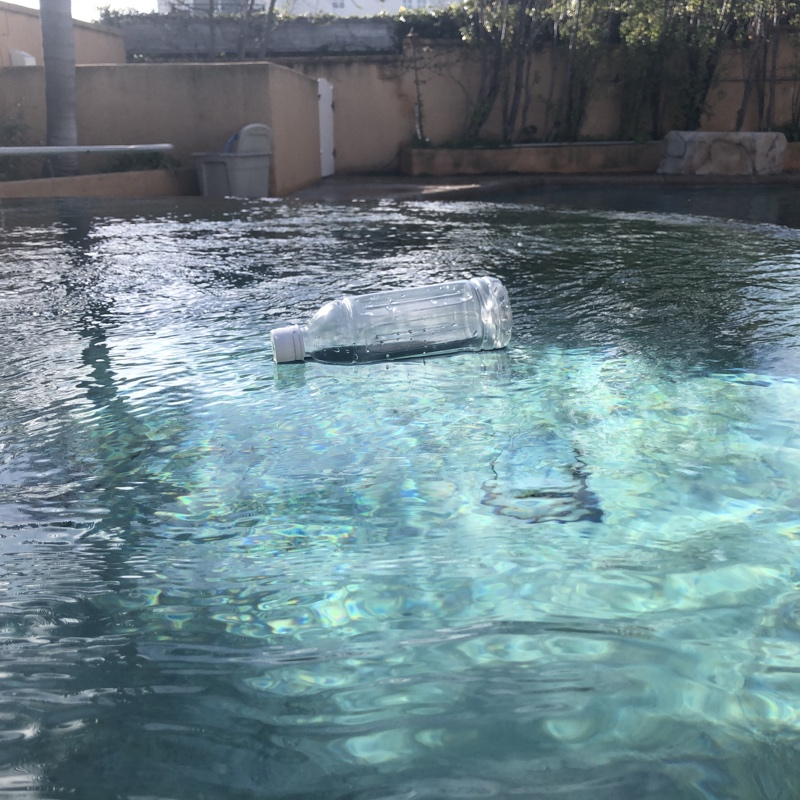Plastic Bottle: (266, 273, 515, 374)
